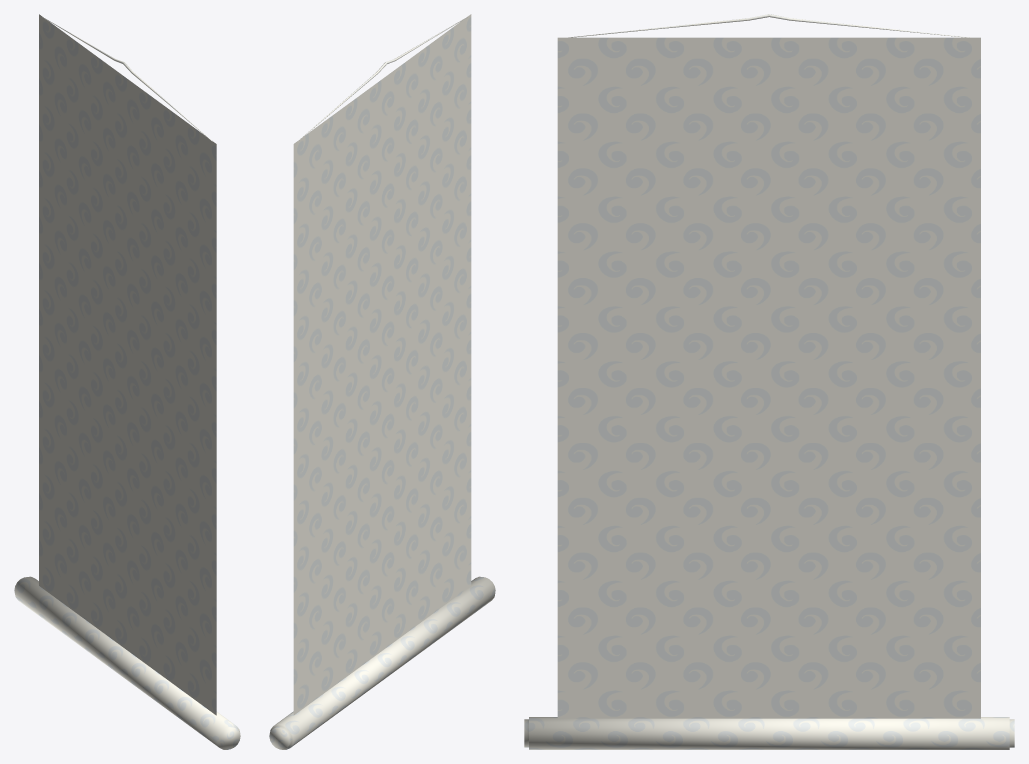
File: Scroll_V2.fbx
3 views of the same model, side by side, from view 1: azimuth 30°, elevation 25°; view 2: azimuth 150°, elevation 25°; view 3: azimuth 270°, elevation 25° (orthographic). The views are drawn at different scales.
Parts seen in each view (by area): view 1: Scroll_V2; view 2: Scroll_V2; view 3: Scroll_V2.
Part boxes in pixels (<box>): Scroll_V2: <box>14,14,240,749</box>; Scroll_V2: <box>269,14,495,749</box>; Scroll_V2: <box>524,14,1014,749</box>.
Bounding box in the file's own units: 26.93 × 657 × 398.
